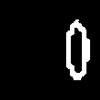chain: (66, 20, 89, 79)
